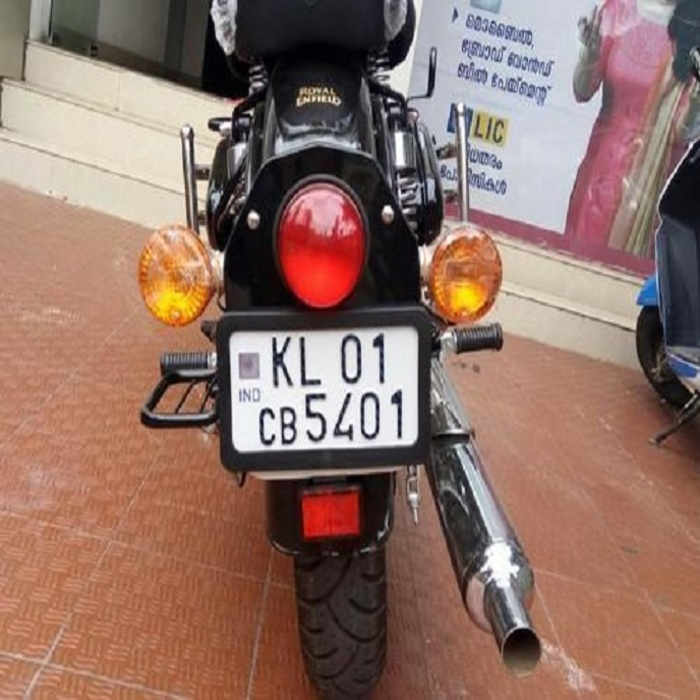n: (212, 310, 425, 464)
